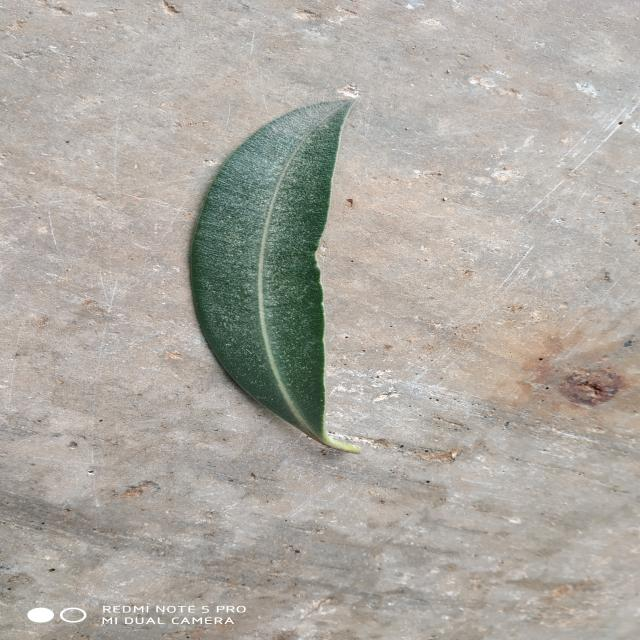ganigale: (191, 100, 360, 452)
leaf spot: (191, 100, 360, 452)
